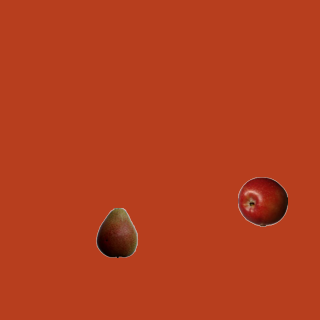Apple Braeburn: (237, 176, 287, 226)
Pear Forelle: (91, 207, 141, 257)
